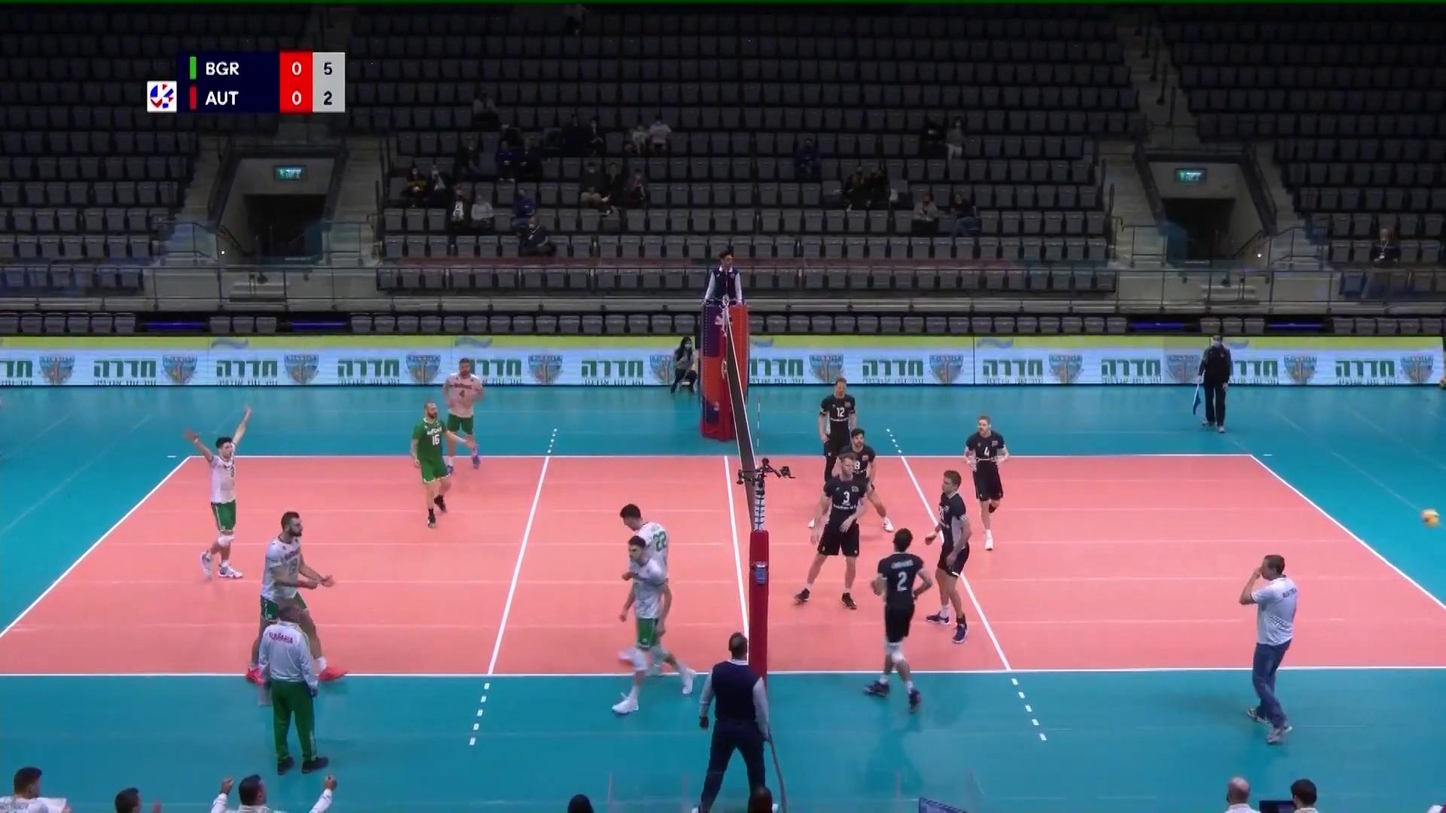ball: (1420, 507, 1442, 529)
